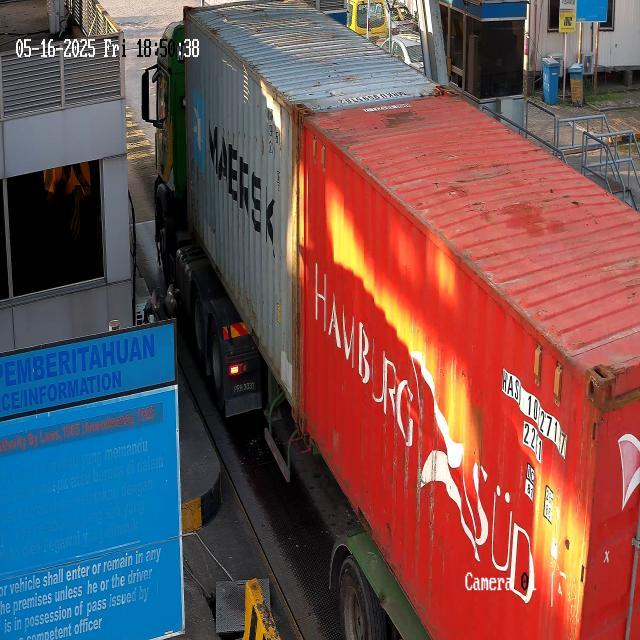ISO: (521, 420, 545, 460), (266, 140, 282, 160)
container_number: (496, 356, 578, 461), (262, 106, 282, 144)
